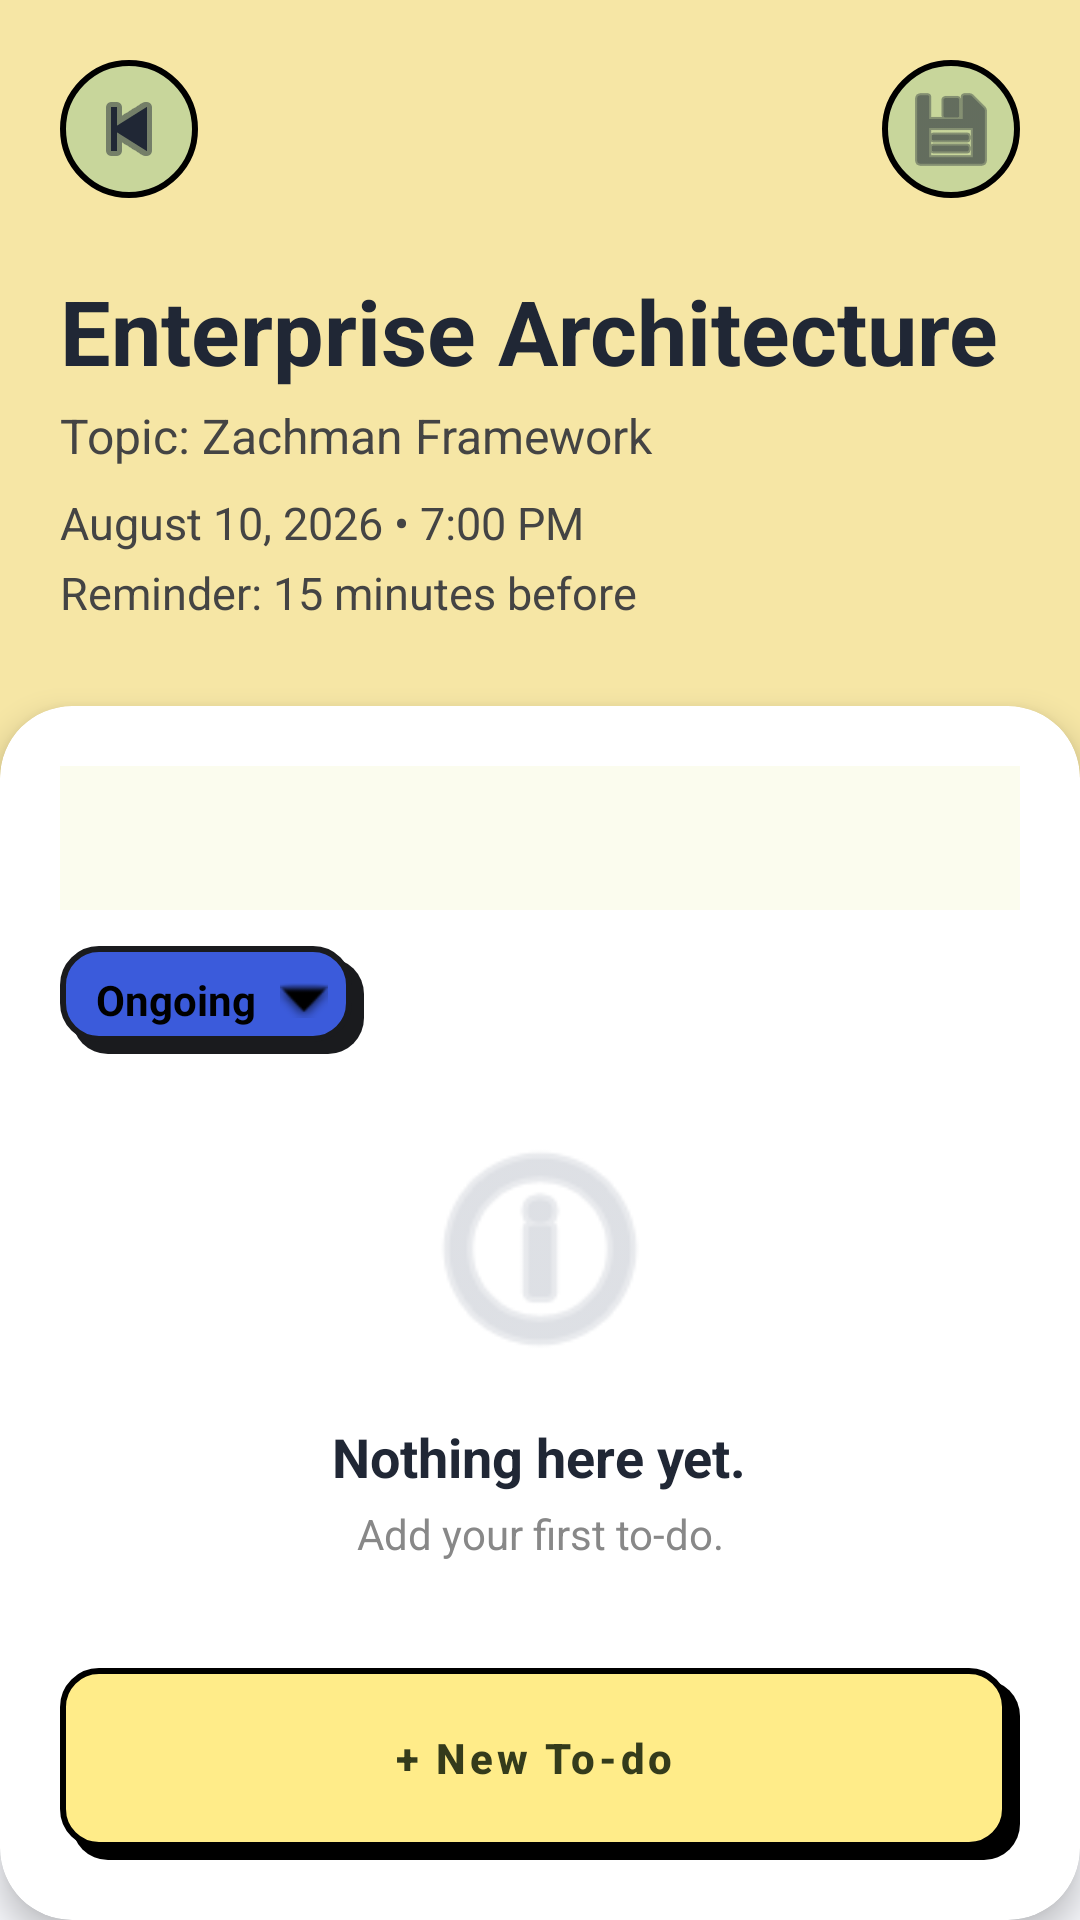

Named icons in this screenshot (1080 × 1920) and their centers, (x=x, y=y):
arrow down float: (x=304, y=1000)
Back: (x=129, y=129)
info details: (x=540, y=1249)
